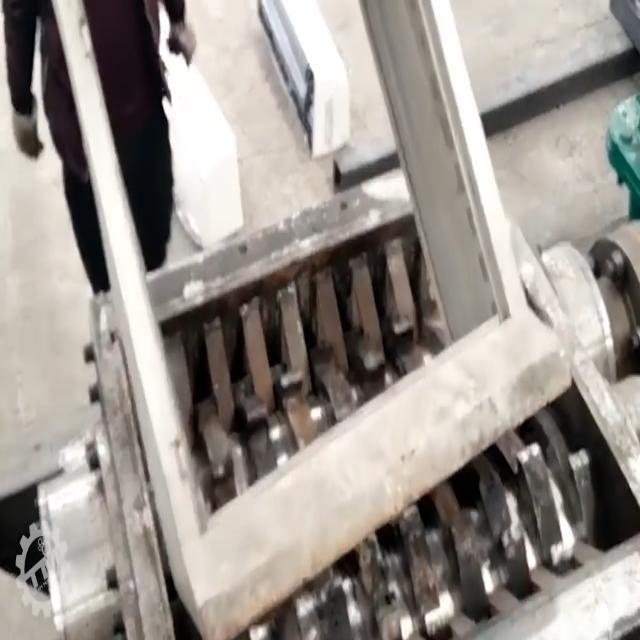Broyeur: (109, 173, 640, 640)
